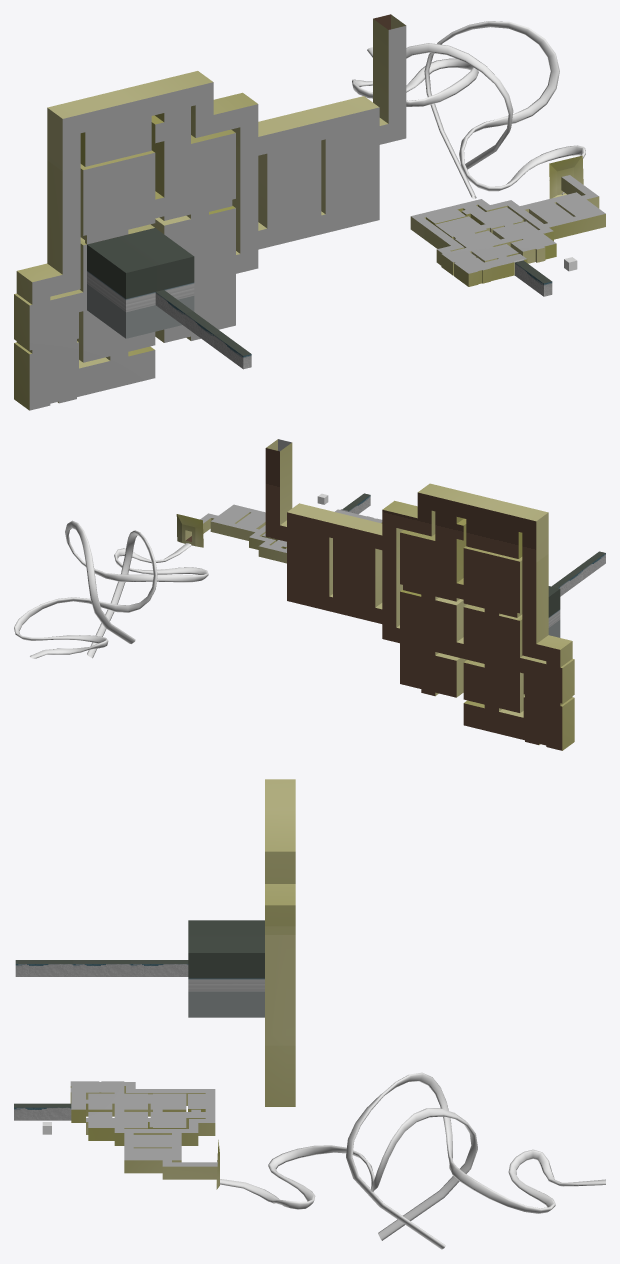
The model's file is Backrooms.fbx.
3 views of the same model, one above another, from view 1: azimuth 30°, elevation 25°; view 2: azimuth 150°, elevation 25°; view 3: azimuth 270°, elevation 25° (orthographic). The views are drawn at different scales.
Visible parts, largest first — view 1: Level.003, Level, Level.002, NurbsPath, NurbsPath.001, Sphere.001, Level.001; view 2: Level.003, NurbsPath, NurbsPath.001, Level, Level.002, Sphere.001; view 3: Level, Level.002, Level.003, NurbsPath.001, NurbsPath, Level.001.
Boxes of the visible parts, <box> form: Level.003: <box>14,14,406,410</box>; Level: <box>410,175,605,286</box>; Level.002: <box>87,228,251,369</box>; NurbsPath: <box>424,21,585,199</box>; NurbsPath.001: <box>352,43,513,169</box>; Sphere.001: <box>549,155,583,198</box>; Level.001: <box>515,260,552,296</box>; Level.003: <box>265,439,574,750</box>; NurbsPath: <box>65,520,208,643</box>; NurbsPath.001: <box>14,530,157,658</box>; Level: <box>185,504,382,563</box>; Level.002: <box>548,551,605,637</box>; Sphere.001: <box>176,514,203,547</box>; Level: <box>70,1081,217,1179</box>; Level.002: <box>15,920,264,1017</box>; Level.003: <box>265,779,295,1106</box>; NurbsPath.001: <box>346,1072,605,1249</box>; NurbsPath: <box>220,1108,477,1240</box>; Level.001: <box>14,1103,71,1120</box>.
Size of what is drawn, in the model's own units: 13920 by 6635 by 12355.
